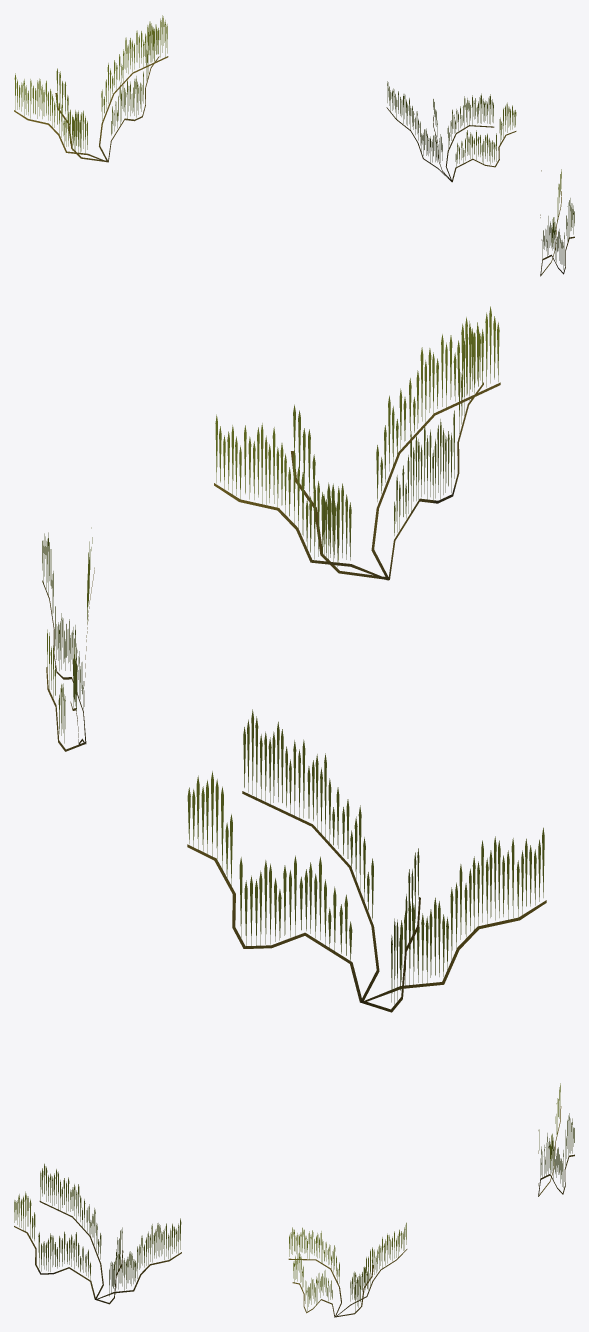
Rendered from Plant_04.FBX.
3 views of the same model, one above another, from view 1: azimuth 30°, elevation 25°; view 2: azimuth 150°, elevation 25°; view 3: azimuth 270°, elevation 25° (orthographic). The views are drawn at different scales.
Visible parts, largest first — view 1: Plant_04; view 2: Plant_04; view 3: Plant_04.
Part boxes in pixels (x1,y1,x2,y2): Plant_04: [14, 15, 574, 276]; Plant_04: [42, 306, 546, 1012]; Plant_04: [14, 1083, 574, 1317].
Size of the model in its own units: 25.74 by 9 by 33.3.
